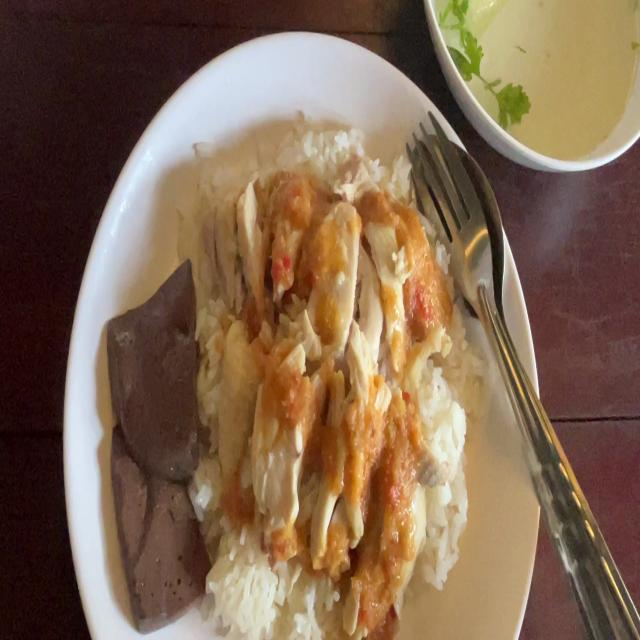chicken_rice: (202, 185, 420, 563)
noodle: (108, 260, 195, 488), (102, 424, 200, 610)
